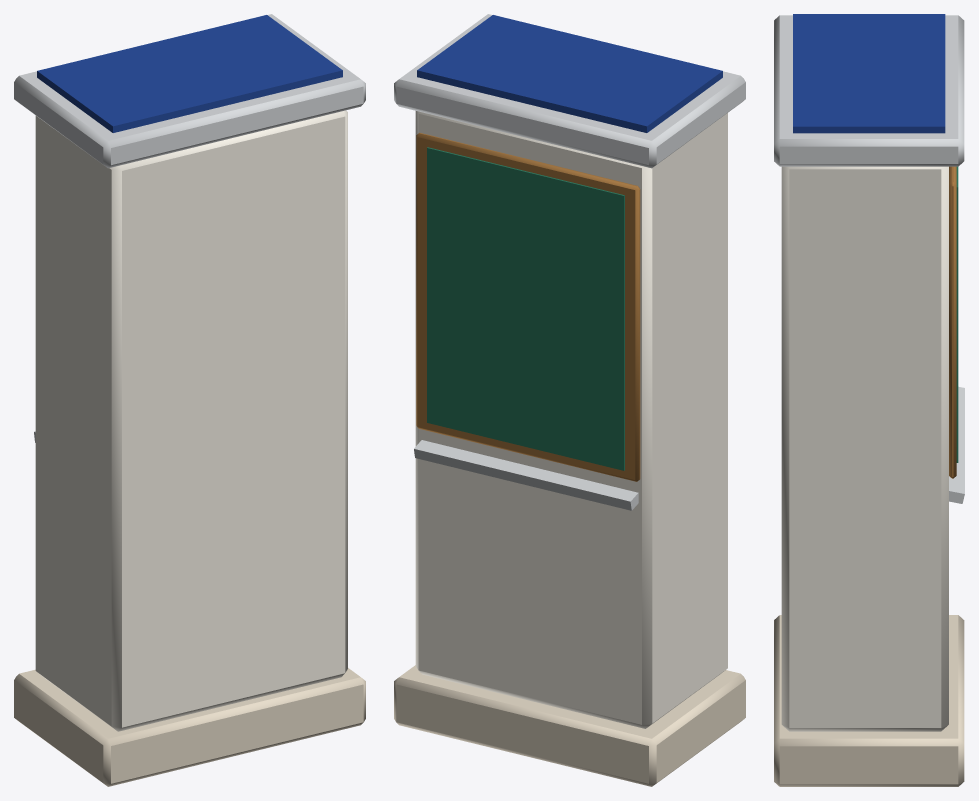
Rendered from kiosk.glb.
3 renders of one model, left to right at view 1: azimuth 30°, elevation 25°; view 2: azimuth 150°, elevation 25°; view 3: azimuth 270°, elevation 25°, orthographic.
Visible parts, largest first — view 1: body; view 2: body, screen; view 3: body, screen.
Boxes of the visible parts, x1,y1,x2,y2 form: body: (14,14,365,786); body: (394,14,745,786); screen: (427,147,624,470); body: (774,14,964,786); screen: (956,166,958,462).
Size of the model in its own units: 0.8 by 1.9 by 0.502.
